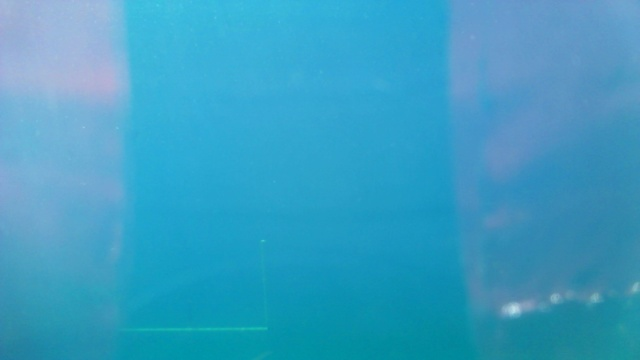channel: (111, 236, 268, 332)
